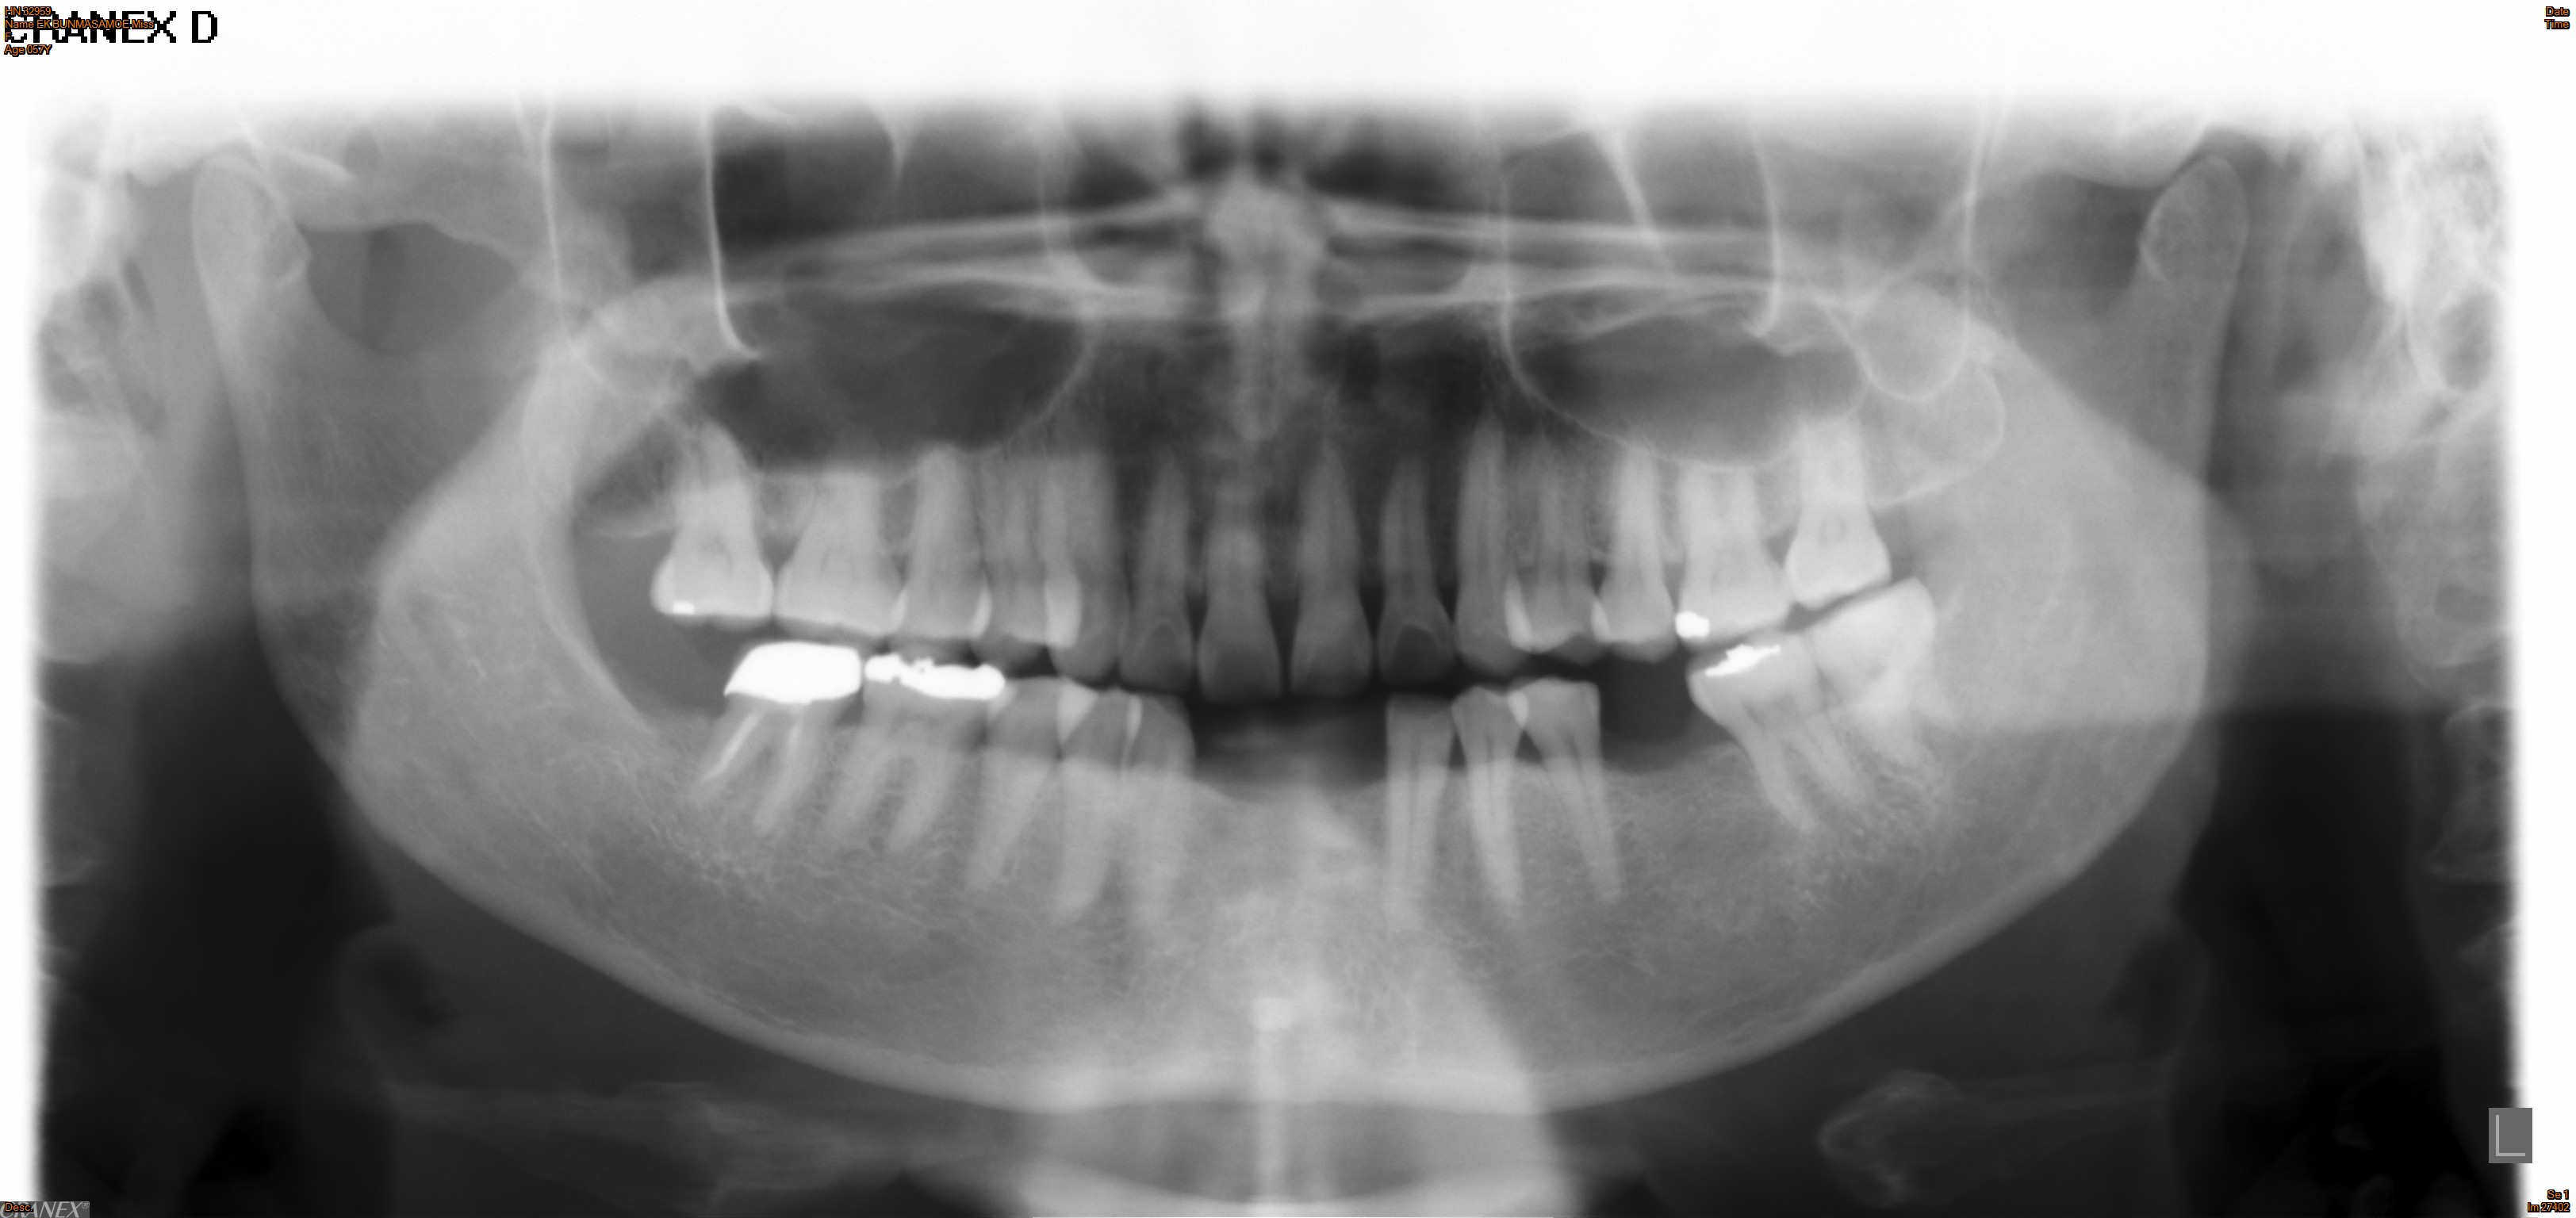periodontitis: (1681, 624, 1886, 850), (679, 634, 869, 859), (1488, 660, 1635, 918), (636, 399, 782, 632), (1768, 396, 1901, 620), (764, 460, 918, 652)
